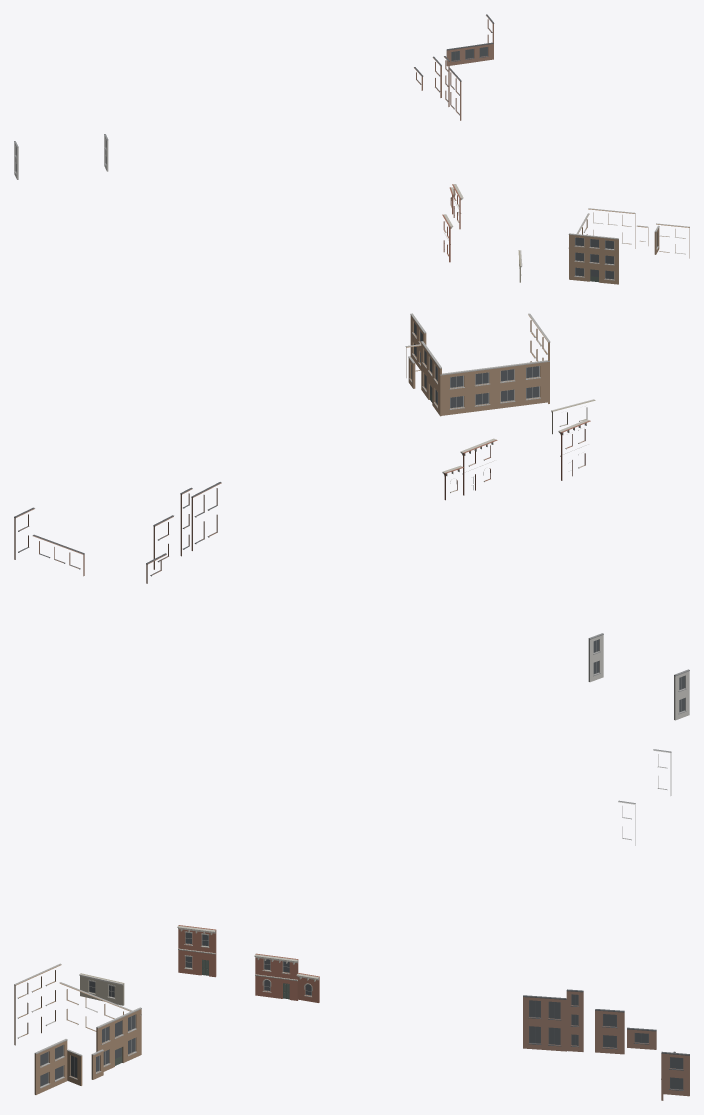
3 views of the same model, one above another, from view 1: azimuth 30°, elevation 25°; view 2: azimuth 150°, elevation 25°; view 3: azimuth 270°, elevation 25° (orthographic). The views are drawn at different scales.
Visible parts, largest first — view 1: f:way/130067997, f:way/147318790, f:way/147318771, f:way/130067986; view 2: f:way/130067997, f:way/60375454, f:way/147318771, f:way/130067986; view 3: f:way/147318771, f:way/130067997, f:way/130067986, f:way/147318790, f:way/130067998.
Boxes of the visible parts, left/top/right/bottom form: f:way/130067997: left=568, top=208, right=689, bottom=284; f:way/147318790: left=446, top=14, right=494, bottom=66; f:way/147318771: left=414, top=56, right=461, bottom=120; f:way/130067986: left=442, top=184, right=463, bottom=262; f:way/130067997: left=405, top=313, right=550, bottom=416; f:way/60375454: left=588, top=633, right=689, bottom=720; f:way/147318771: left=146, top=482, right=221, bottom=583; f:way/130067986: left=442, top=419, right=590, bottom=500; f:way/147318771: left=523, top=989, right=656, bottom=1054; f:way/130067997: left=14, top=963, right=141, bottom=1094; f:way/130067986: left=177, top=925, right=319, bottom=1002; f:way/147318790: left=661, top=1051, right=689, bottom=1100; f:way/130067998: left=79, top=973, right=124, bottom=1005.
Bounding box in the file's own units: 96.67 × 11.63 × 88.51.
